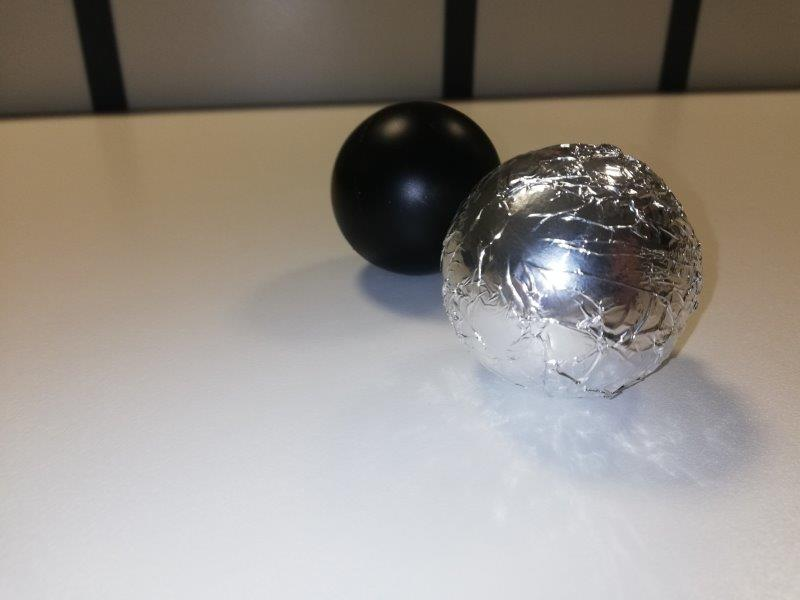bianca: (445, 143, 702, 395)
nera: (329, 103, 502, 279)
